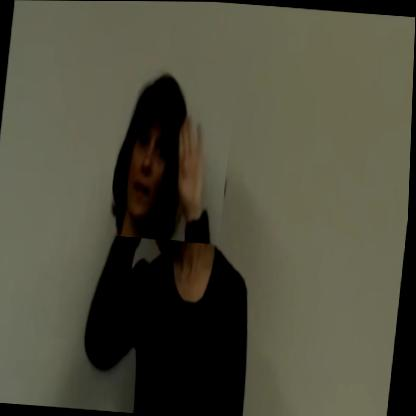Hello: (109, 53, 239, 244)
